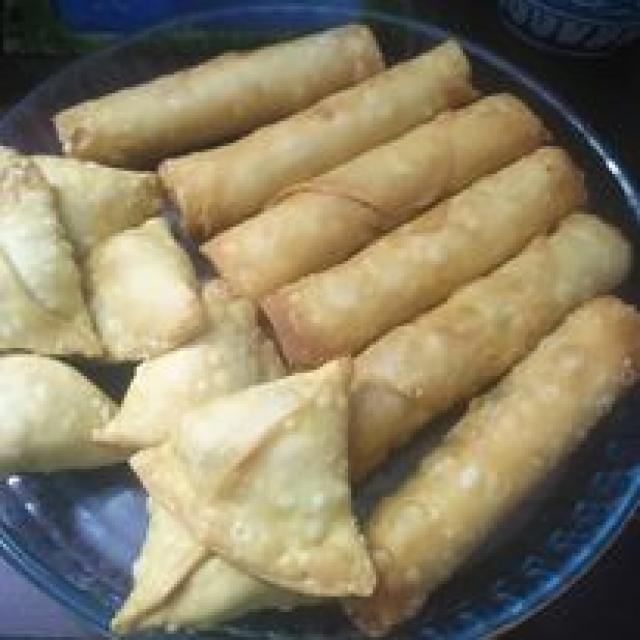Samosa: (0, 116, 353, 614)
Spring Rolls: (267, 22, 637, 637)
